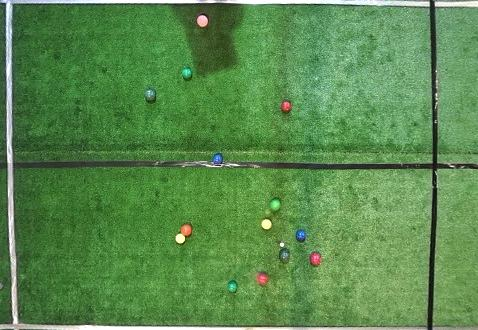blue: (296, 230, 306, 242), (212, 154, 223, 164)
green: (270, 198, 281, 211), (278, 249, 290, 260), (227, 281, 238, 293), (145, 89, 156, 101), (182, 68, 192, 79)
red: (196, 15, 209, 28), (180, 224, 192, 236), (309, 253, 321, 265), (257, 273, 268, 285), (280, 102, 291, 112)
vline: (426, 1, 478, 329), (0, 1, 24, 329)
white: (280, 243, 284, 247)
yellow: (261, 218, 272, 230), (174, 233, 185, 244)
